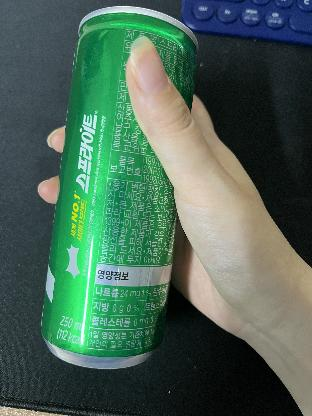Can: (40, 5, 200, 371)
